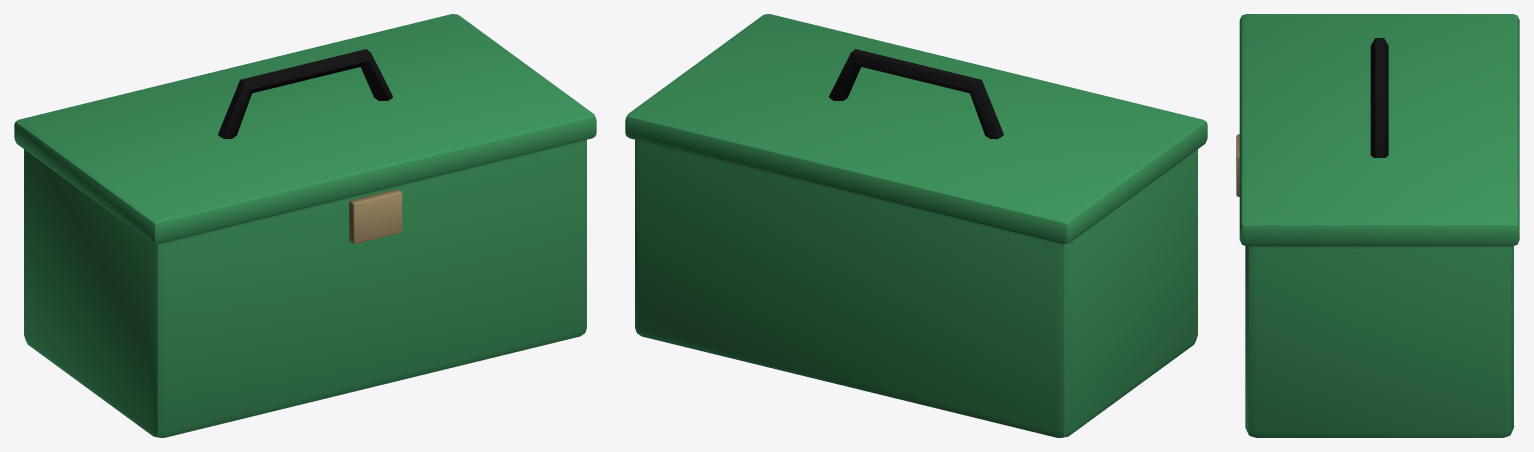
Rendered from tacklebox.glb.
3 views of the same model, side by side, from view 1: azimuth 30°, elevation 25°; view 2: azimuth 150°, elevation 25°; view 3: azimuth 270°, elevation 25° (orthographic).
Visible parts, largest first — view 1: boat_paint_green, boat_iron, boat_brass; view 2: boat_paint_green, boat_iron; view 3: boat_paint_green, boat_iron.
Part boxes in pixels (left/top/right/bottom): boat_paint_green: left=14, top=14, right=596, bottom=437; boat_iron: left=218, top=49, right=392, bottom=139; boat_brass: left=349, top=189, right=402, bottom=244; boat_paint_green: left=625, top=14, right=1207, bottom=437; boat_iron: left=829, top=49, right=1003, bottom=139; boat_paint_green: left=1239, top=14, right=1519, bottom=437; boat_iron: left=1370, top=38, right=1388, bottom=157.
Bounding box in the file's own units: 0.45 × 0.2658 × 0.253.
Materials: 3 (1 with a texture image).
